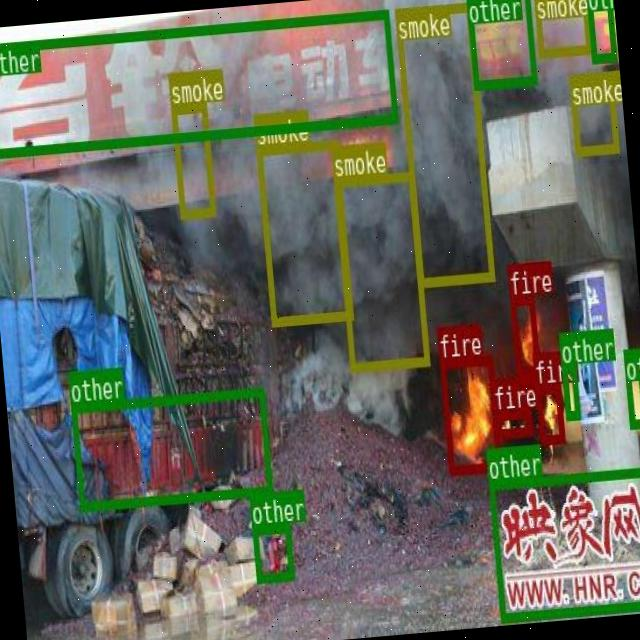fire: (438, 353, 501, 472), (510, 294, 540, 374), (534, 382, 564, 442), (492, 408, 532, 436)
smoke: (394, 1, 494, 284), (334, 170, 429, 370), (255, 139, 352, 324), (170, 101, 214, 216), (568, 70, 618, 154), (532, 0, 590, 55)
